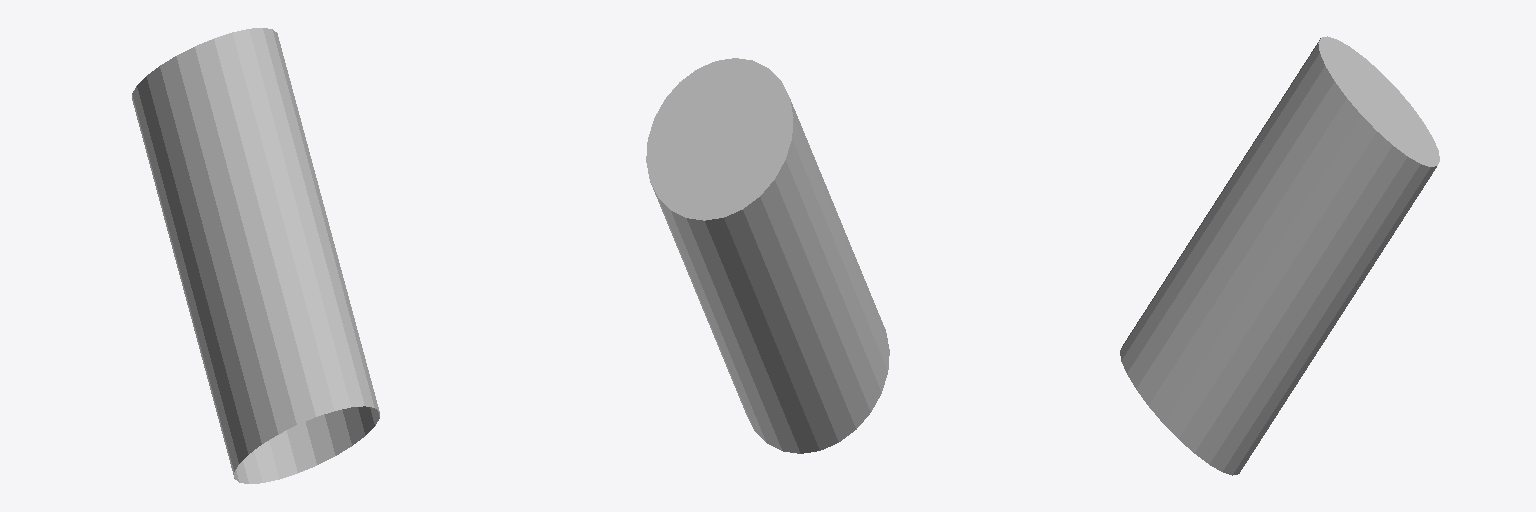
The model's file is original-12.obj.
3 renders of one model, left to right at view 1: azimuth 30°, elevation 25°; view 2: azimuth 150°, elevation 25°; view 3: azimuth 270°, elevation 25°, orthographic.
Parts seen in each view (by area): view 1: #ID75; view 2: #ID75; view 3: #ID75.
Boxes of the visible parts, box(x1,y1,x2,y2) form: #ID75: box(132, 28, 379, 483); #ID75: box(646, 58, 889, 453); #ID75: box(1120, 36, 1439, 475).
Size of the model in its own units: 0.0327 by 0.0961 by 0.0663.